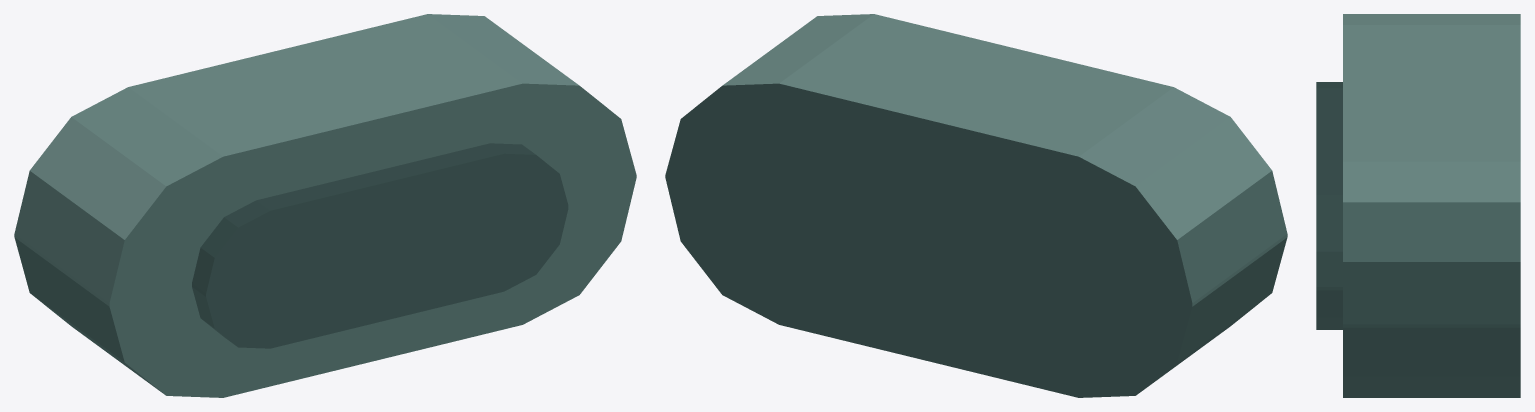
File: Signal_LampOff.gltf
3 renders of one model, left to right at view 1: azimuth 30°, elevation 25°; view 2: azimuth 150°, elevation 25°; view 3: azimuth 270°, elevation 25°, orthographic. The views are drawn at different scales.
Visible parts, largest first — view 1: Signal_LampOff_baked; view 2: Signal_LampOff_baked; view 3: Signal_LampOff_baked.
Boxes of the visible parts, <box> form: Signal_LampOff_baked: <box>14,14,636,397</box>; Signal_LampOff_baked: <box>665,14,1287,397</box>; Signal_LampOff_baked: <box>1316,14,1520,397</box>.
Bounding box in the file's own units: 0.32 × 0.14 × 0.115.
